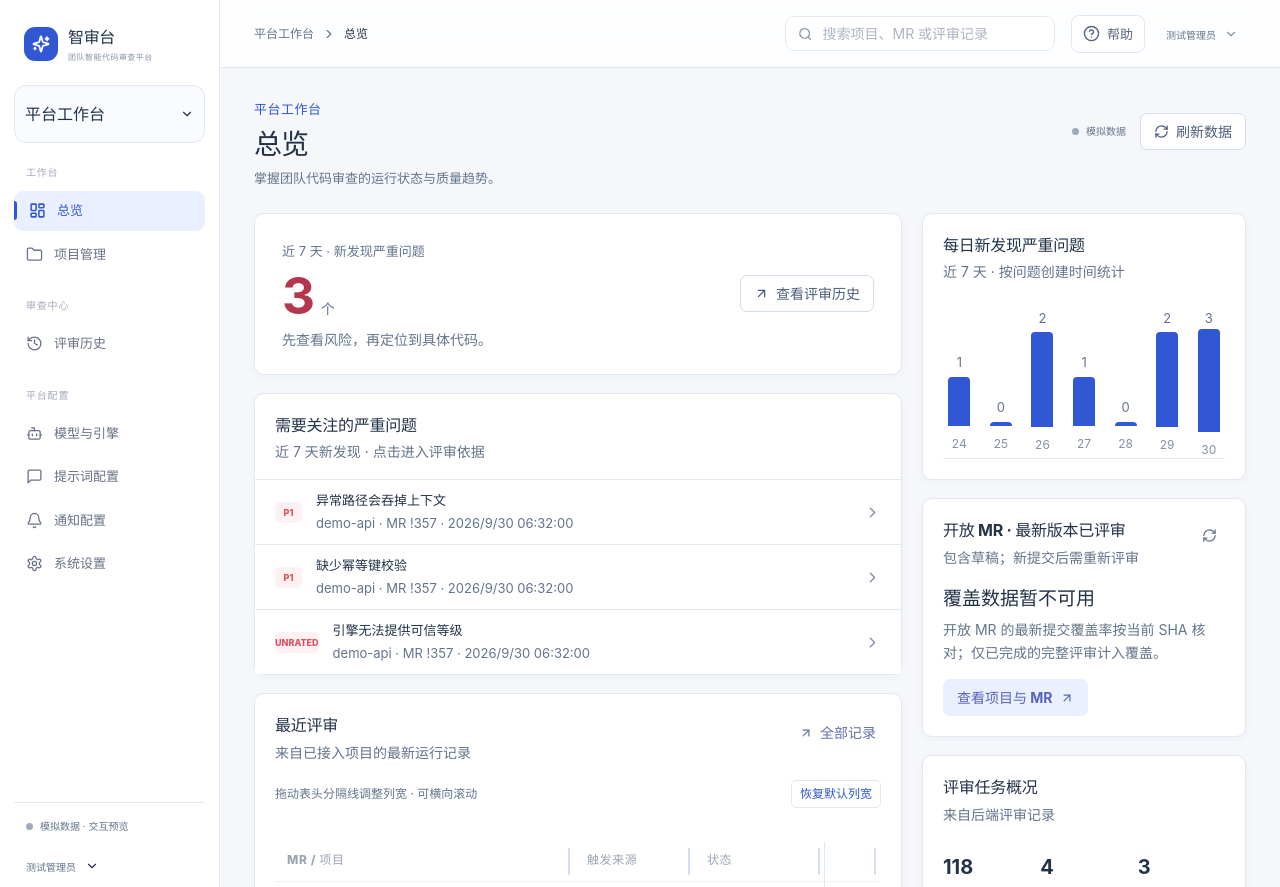
Test: reloads current saved prompts when refreshing the platform page
The image size is (1280, 887).
What coordinates should you click on to do the following:
click the button "提示词配置"
I would click on:
 (110, 477)
Its box is [14,457,205,496].
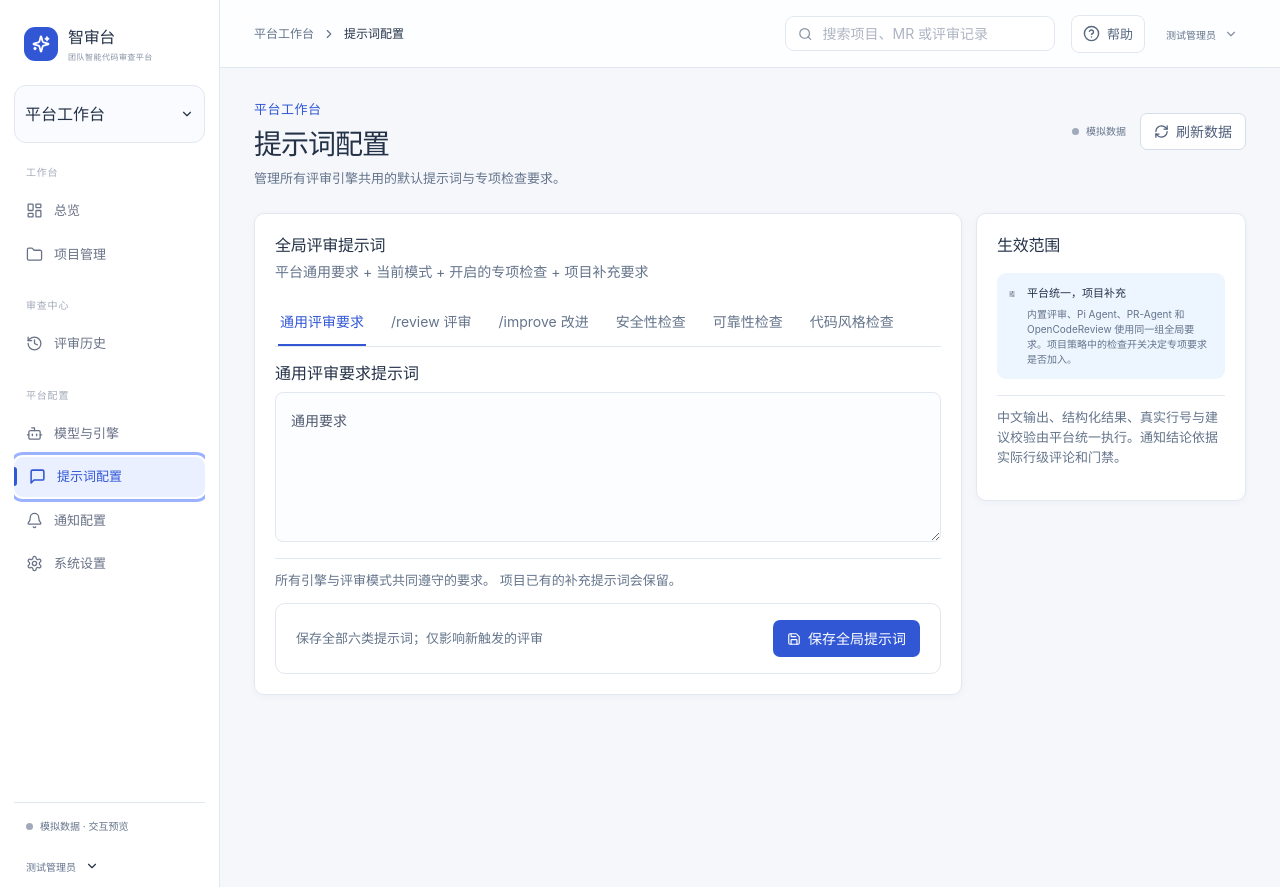
Expected: the text box labelled "通用评审要求提示词" is shown, [275,392,941,542]
What coordinates should you click on to do the following:
click the button "刷新数据"
I would click on:
 (1193, 132)
Its box is [1140,113,1246,150].
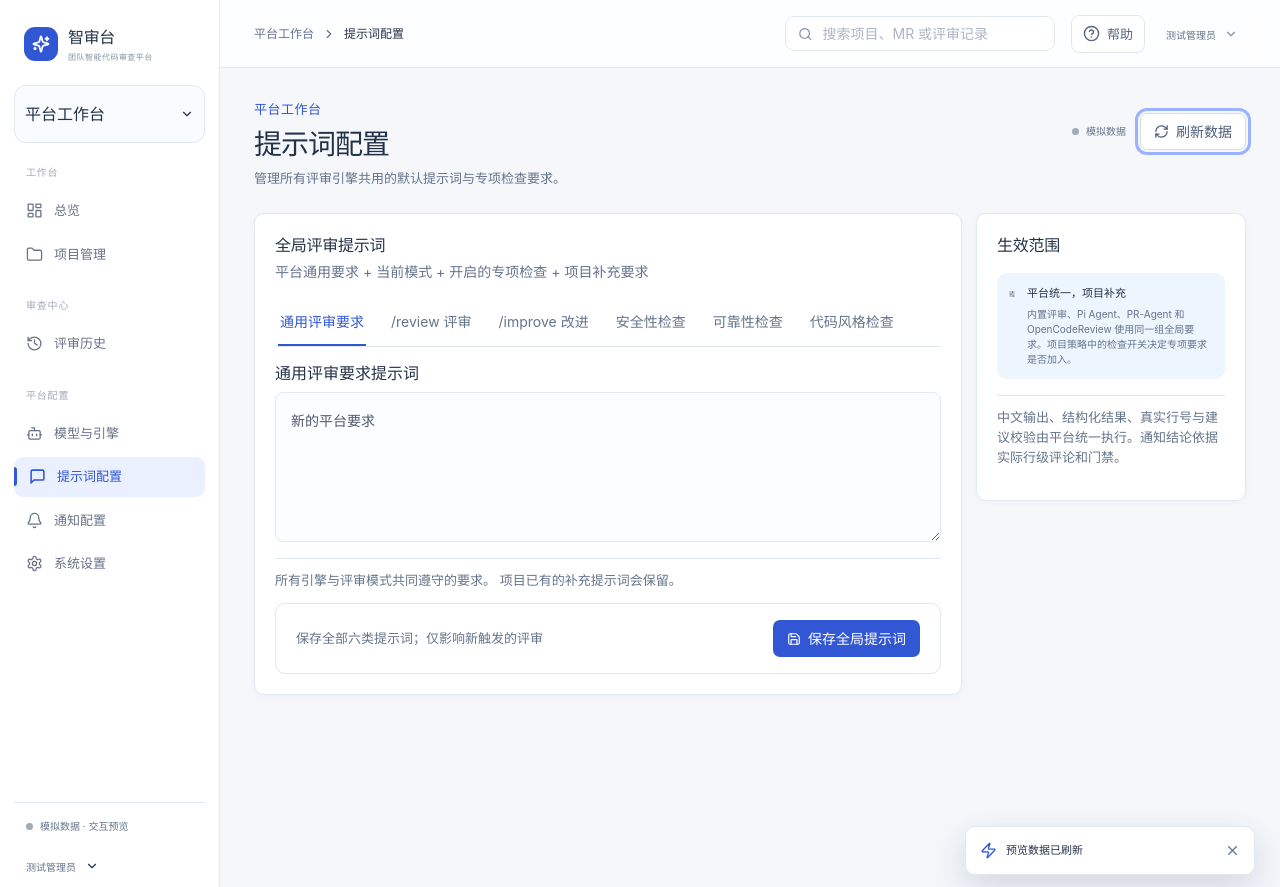
Expected: the text box showing "新的平台要求" is shown, [275,392,941,542]
